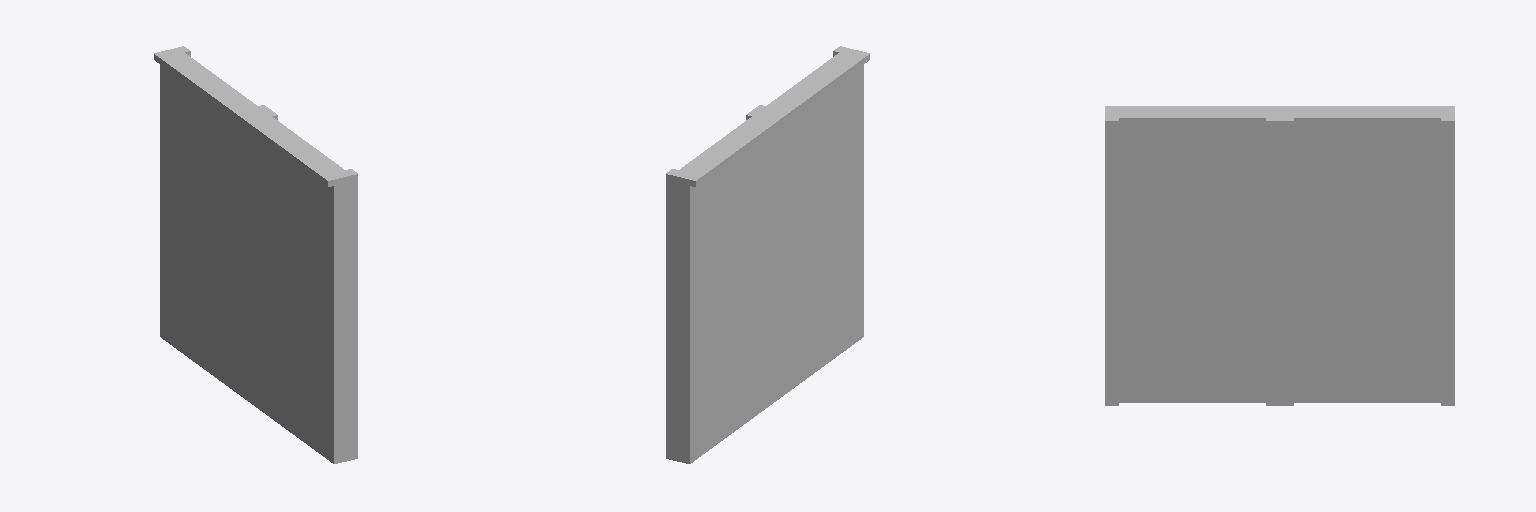
File: Kitchen_wall.obj
3 views of the same model, side by side, from view 1: azimuth 30°, elevation 25°; view 2: azimuth 150°, elevation 25°; view 3: azimuth 270°, elevation 25° (orthographic).
Visible parts, largest first — view 1: object 1; view 2: object 1; view 3: object 1.
Boxes of the visible parts, x1,y1,x2,y2 form: object 1: [154, 46, 357, 463]; object 1: [666, 46, 869, 463]; object 1: [1105, 106, 1454, 405].
Bounding box in the file's own units: 0.5 × 4.5 × 5.